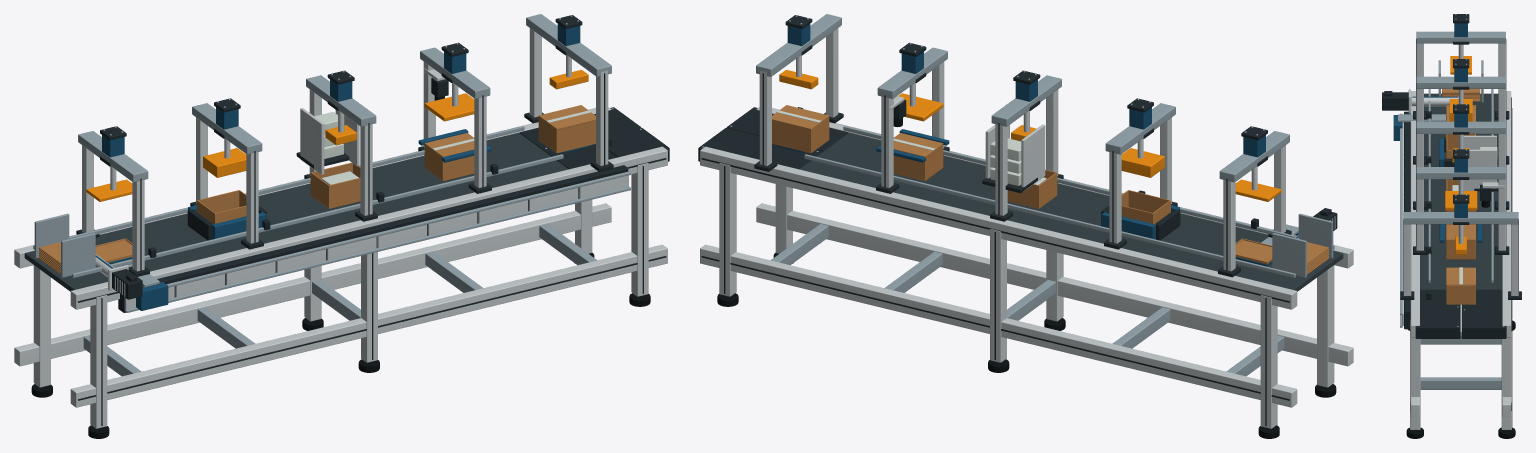
The model's file is cell.glb.
3 renders of one model, left to right at view 1: azimuth 30°, elevation 25°; view 2: azimuth 150°, elevation 25°; view 3: azimuth 270°, elevation 25°, orthographic. The views are drawn at different scales.
Visible parts, largest first — view 1: TransferBed, Rail_-1_220, Rail_1_220, Rail_-1_680, TrackStator, Guide_-1, Leg_-1_0, TrackGuide_680, Leg_-1_2, TrackGuide_608, Leg_1_0, Leg_-1_1 (+42 smaller); view 2: TransferBed, Rail_1_680, Rail_1_220, Rail_-1_220, Guide_1, Leg_1_0, Leg_1_2, Leg_-1_0, Leg_1_1, S5_Gantry, Slot_1_680, Slot_1_220 (+36 smaller); view 3: TransferBed, Rail_1_680, Rail_-1_680, S5_Gantry, PlanarTile_1_1, PlanarTile_1_0, S5_CrossTie, S1_Gantry, S2_Gantry, S3_Gantry, S4_Gantry, TrackStator (+50 smaller).
Part boxes in pixels (bbox=[...]): TransferBed: bbox=[24, 132, 568, 291]; Rail_-1_220: bbox=[70, 244, 667, 407]; Rail_1_220: bbox=[14, 203, 611, 366]; Rail_-1_680: bbox=[70, 146, 667, 309]; TrackStator: bbox=[118, 165, 628, 312]; Guide_-1: bbox=[72, 154, 563, 278]; Leg_-1_0: bbox=[90, 295, 107, 428]; TrackGuide_680: bbox=[167, 171, 630, 287]; Leg_-1_2: bbox=[631, 163, 648, 296]; TrackGuide_608: bbox=[125, 186, 630, 312]; Leg_1_0: bbox=[33, 265, 50, 387]; Leg_-1_1: bbox=[361, 252, 377, 362]; TransferBed: bbox=[799, 132, 1343, 291]; Rail_1_680: bbox=[700, 146, 1297, 309]; Rail_1_220: bbox=[700, 244, 1297, 407]; Rail_-1_220: bbox=[756, 203, 1353, 366]; Guide_1: bbox=[804, 154, 1295, 278]; Leg_1_0: bbox=[1260, 295, 1277, 428]; Leg_1_2: bbox=[719, 163, 736, 296]; Leg_-1_0: bbox=[1317, 265, 1334, 387]; Leg_1_1: bbox=[990, 229, 1006, 362]; S5_Gantry: bbox=[756, 14, 841, 76]; Slot_1_680: bbox=[701, 158, 1289, 302]; Slot_1_220: bbox=[701, 256, 1289, 400]; TransferBed: bbox=[1420, 93, 1502, 289]; Rail_1_680: bbox=[1502, 91, 1511, 337]; Rail_-1_680: bbox=[1410, 91, 1419, 337]; S5_Gantry: bbox=[1403, 212, 1518, 224]; PlanarTile_1_1: bbox=[1461, 309, 1506, 338]; PlanarTile_1_0: bbox=[1415, 309, 1460, 338]; S5_CrossTie: bbox=[1420, 377, 1501, 389]; S1_Gantry: bbox=[1416, 31, 1505, 43]; S2_Gantry: bbox=[1416, 76, 1505, 88]; S3_Gantry: bbox=[1416, 121, 1505, 133]; S4_Gantry: bbox=[1416, 167, 1505, 179]; TrackStator: bbox=[1404, 111, 1410, 329].
Bounding box in the file's own units: 2.93 × 1.28 × 0.734.
